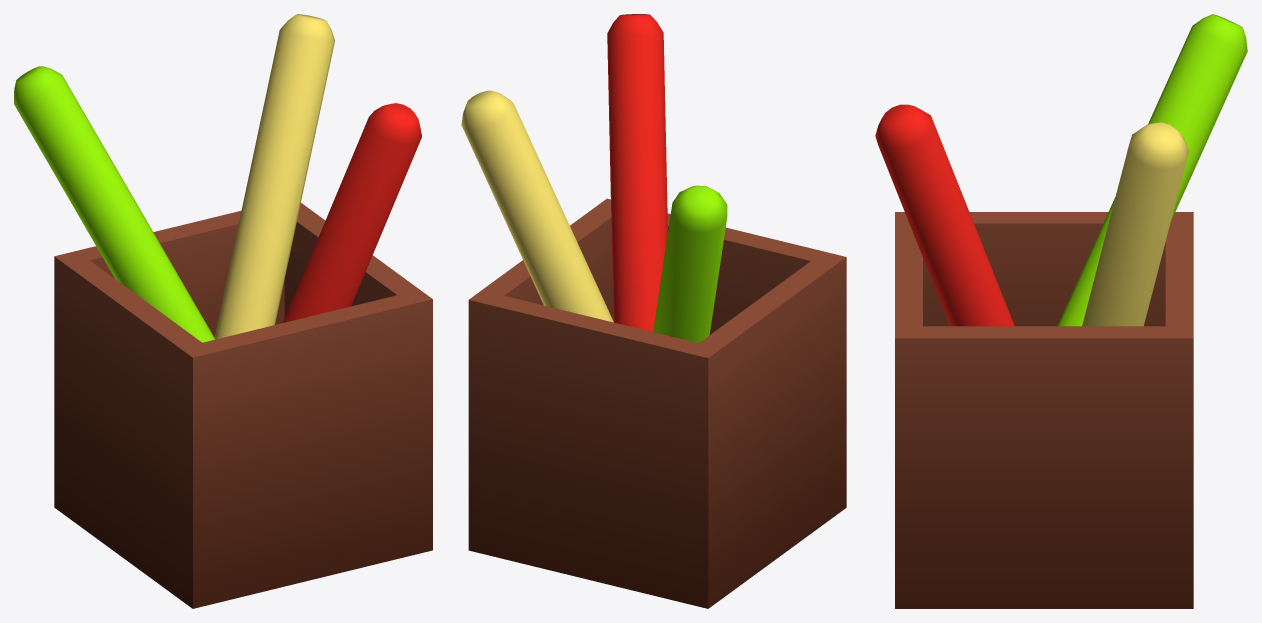
The model's file is kalemlik.fbx.
3 views of the same model, side by side, from view 1: azimuth 30°, elevation 25°; view 2: azimuth 150°, elevation 25°; view 3: azimuth 270°, elevation 25° (orthographic). The views are drawn at different scales.
Visible parts, largest first — view 1: kalemlik; view 2: kalemlik; view 3: kalemlik.
Part boxes in pixels (<box>): kalemlik: <box>14,14,432,608</box>; kalemlik: <box>461,14,846,608</box>; kalemlik: <box>875,14,1247,608</box>.
Size of the model in its own units: 46.6 by 69.65 by 48.62.
